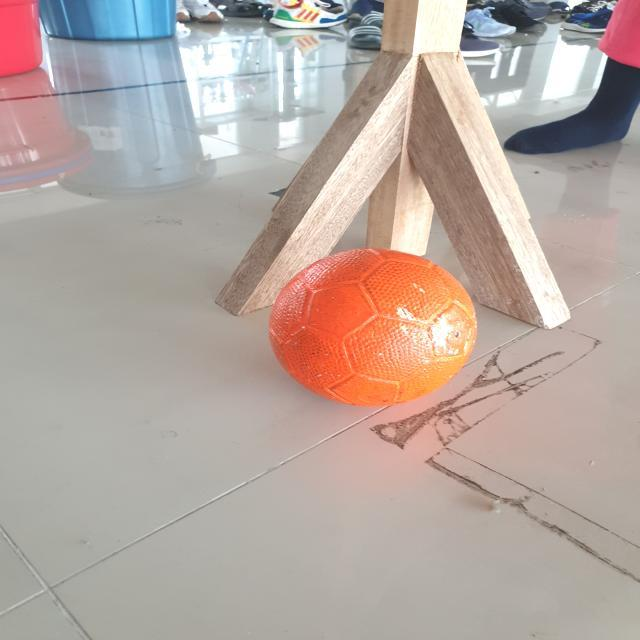bola: (250, 242, 508, 434)
